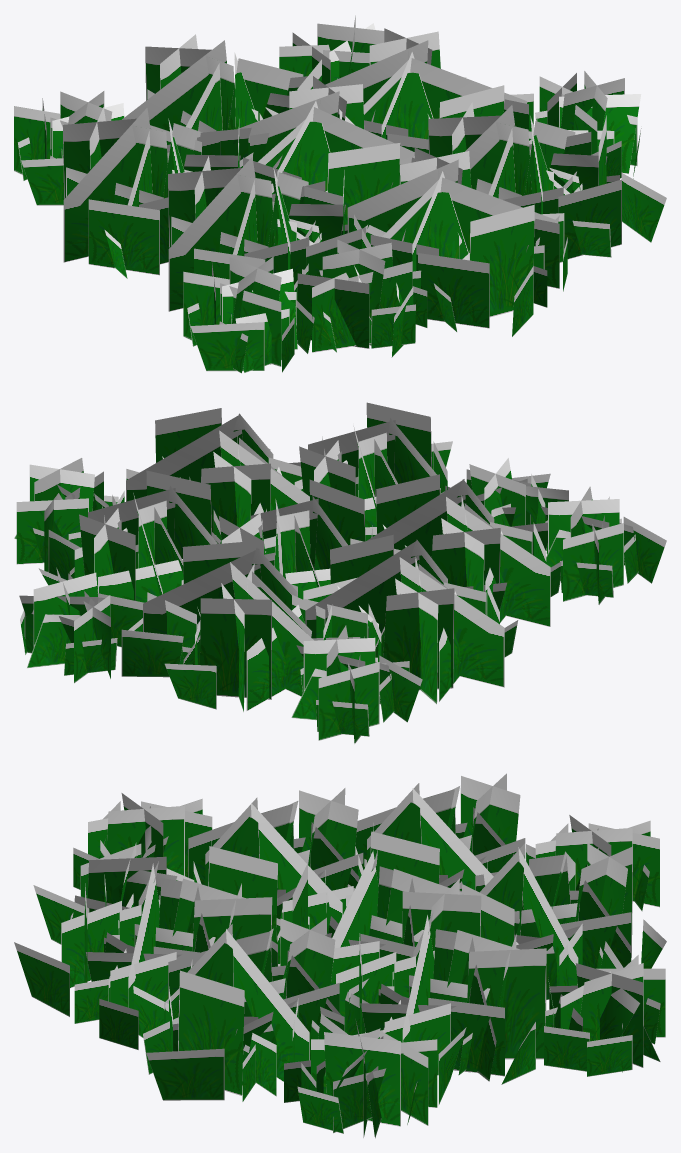
File: meadow01.obj
3 renders of one model, top to bottom at view 1: azimuth 30°, elevation 25°; view 2: azimuth 150°, elevation 25°; view 3: azimuth 270°, elevation 25°, orthographic. The views are drawn at different scales.
Parts seen in each view (by area): view 1: Duplicate01, Duplicate05, Duplicate02, Duplicate06, Duplicate03, Duplicate04, Duplicate09, Duplicate07, Duplicate08, Duplicate10; view 2: Duplicate03, Duplicate02, Duplicate01, Duplicate04, Duplicate05, Duplicate06, Duplicate10, Duplicate09, Duplicate08, Duplicate07, Box02; view 3: Duplicate04, Duplicate06, Duplicate03, Duplicate05, Duplicate01, Duplicate02, Duplicate08, Duplicate09, Duplicate07, Duplicate10, Box02.
Part boxes in pixels (x1,y1,x2,y2): Duplicate01: (168,32,400,311); Duplicate05: (319,100,567,336); Duplicate02: (63,44,414,278); Duplicate06: (428,102,666,259); Duplicate03: (122,23,384,168); Duplicate04: (313,15,537,188); Duplicate09: (183,256,314,373); Duplicate07: (297,239,427,357); Duplicate08: (528,71,641,178); Duplicate10: (14,91,124,205); Duplicate03: (20,499,332,712); Duplicate02: (64,496,518,704); Duplicate01: (24,474,562,683); Duplicate04: (33,470,318,647); Duplicate05: (27,402,464,668); Duplicate06: (117,408,309,535); Duplicate10: (291,625,422,743); Duplicate09: (540,486,666,604); Duplicate08: (14,458,118,572); Duplicate07: (466,458,568,550); Box02: (19,552,319,616); Duplicate04: (320,850,643,1105); Duplicate06: (133,917,369,1102); Duplicate03: (385,843,666,1076); Duplicate05: (14,861,660,1061); Duplicate01: (166,788,665,1072); Duplicate02: (333,773,660,1044); Duplicate08: (297,1019,437,1138); Duplicate09: (73,793,212,889); Duplicate07: (33,840,177,944); Duplicate10: (535,815,659,912); Box02: (369,915,639,1039).
Bounding box in the file's own units: 236 × 51.35 × 226.
